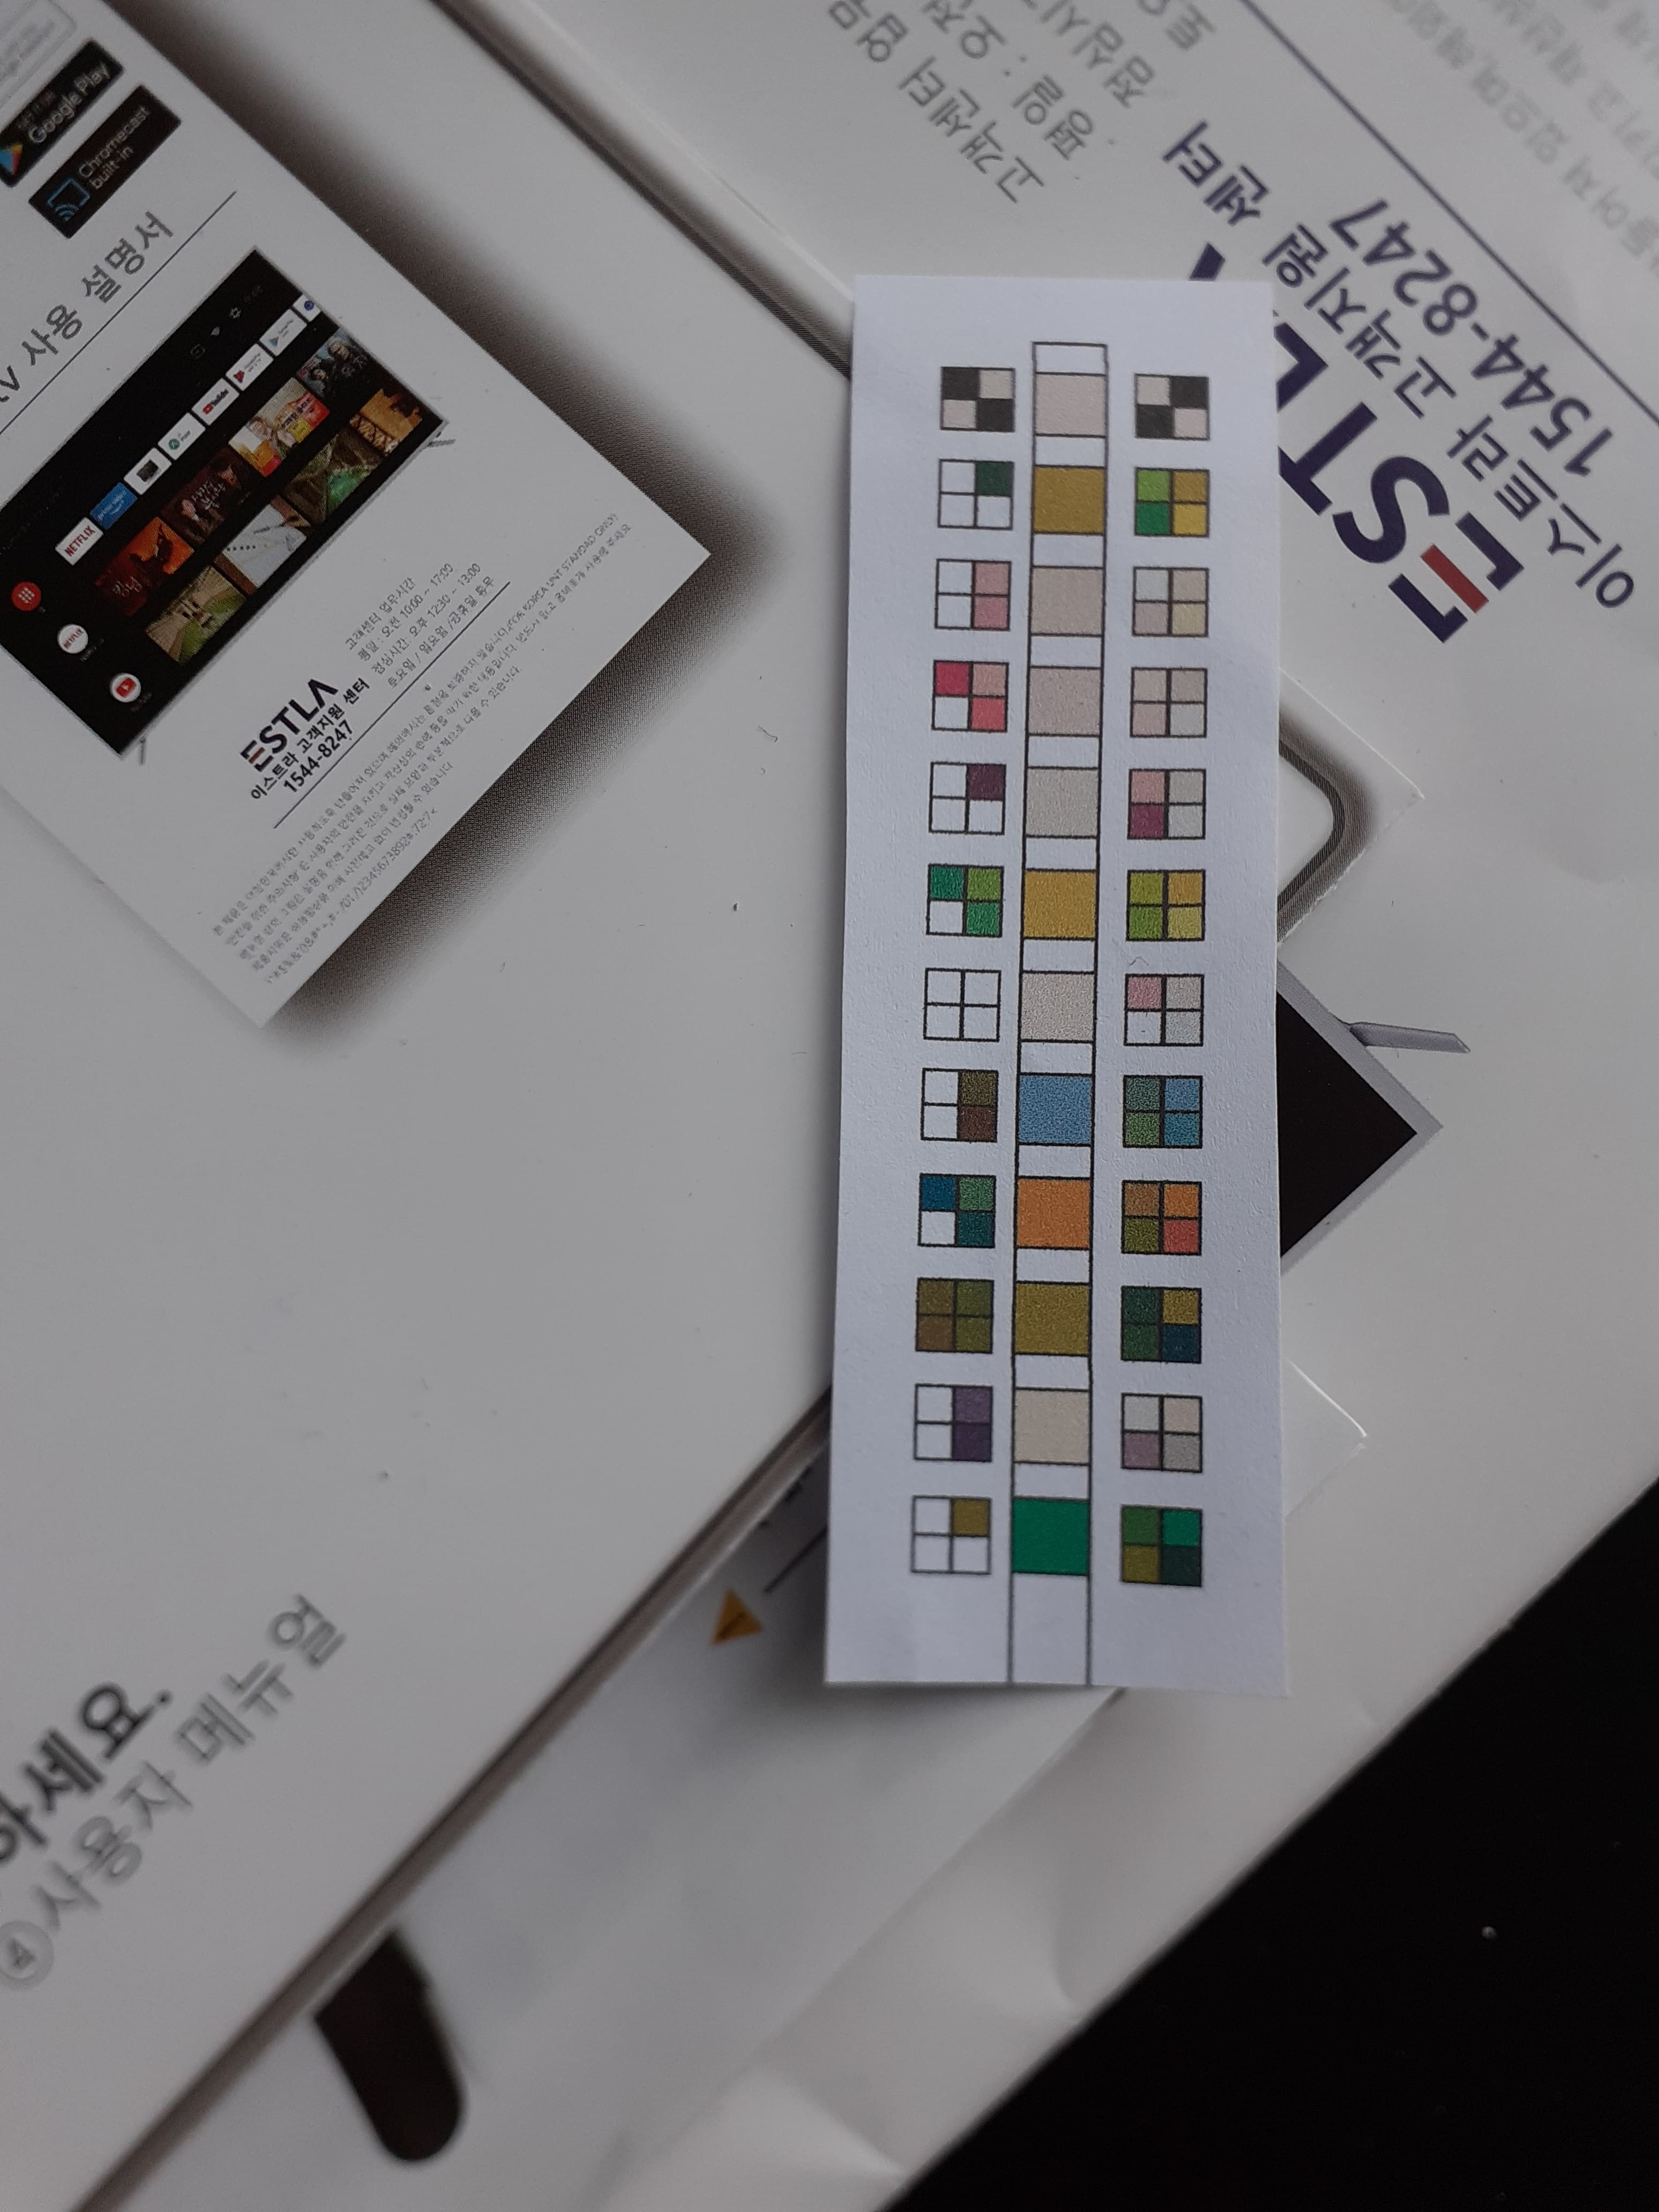tester: (849, 272, 1284, 1702)
